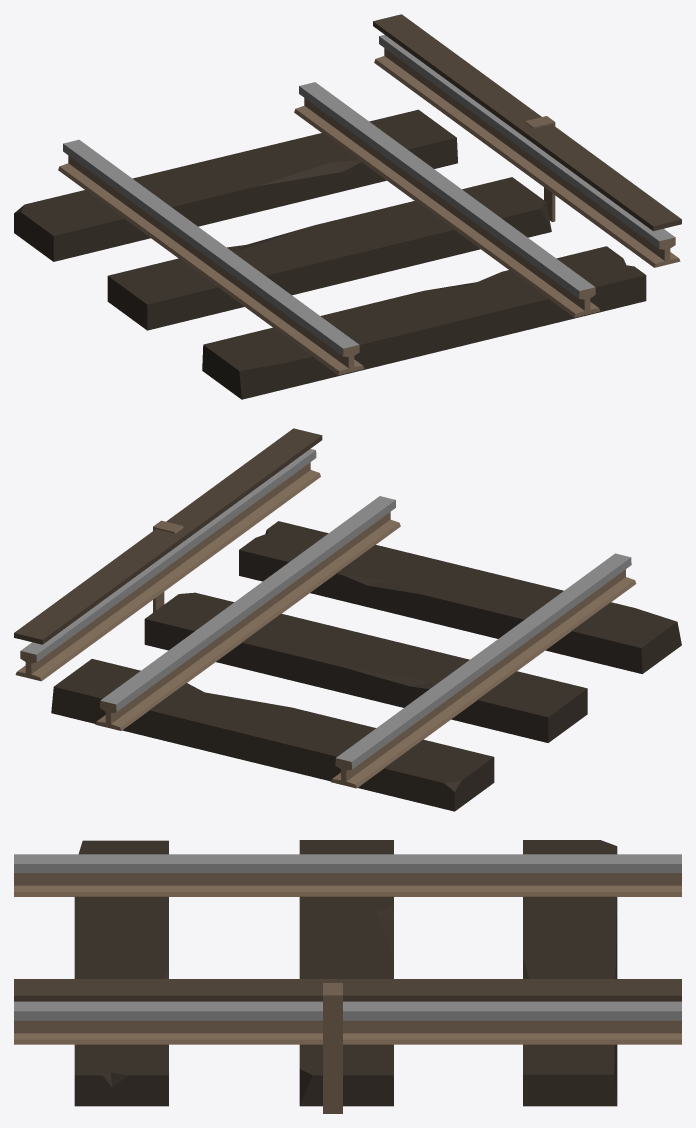
Rendered from SW_ENV_TrackStraight_03m.fbx.
The picture shows the model from 3 angles, top to bottom: view 1: azimuth 30°, elevation 25°; view 2: azimuth 150°, elevation 25°; view 3: azimuth 270°, elevation 25°; orthographic projection. The views are drawn at different scales.
Parts seen in each view (by area): view 1: SW_ENV_TrackStraight_03m; view 2: SW_ENV_TrackStraight_03m; view 3: SW_ENV_TrackStraight_03m.
Boxes of the visible parts, left/top/right/bottom form: SW_ENV_TrackStraight_03m: left=14, top=14, right=681, bottom=399; SW_ENV_TrackStraight_03m: left=14, top=428, right=681, bottom=811; SW_ENV_TrackStraight_03m: left=14, top=840, right=681, bottom=1113.
Bounding box in the file's own units: 258 × 58.74 × 300.
